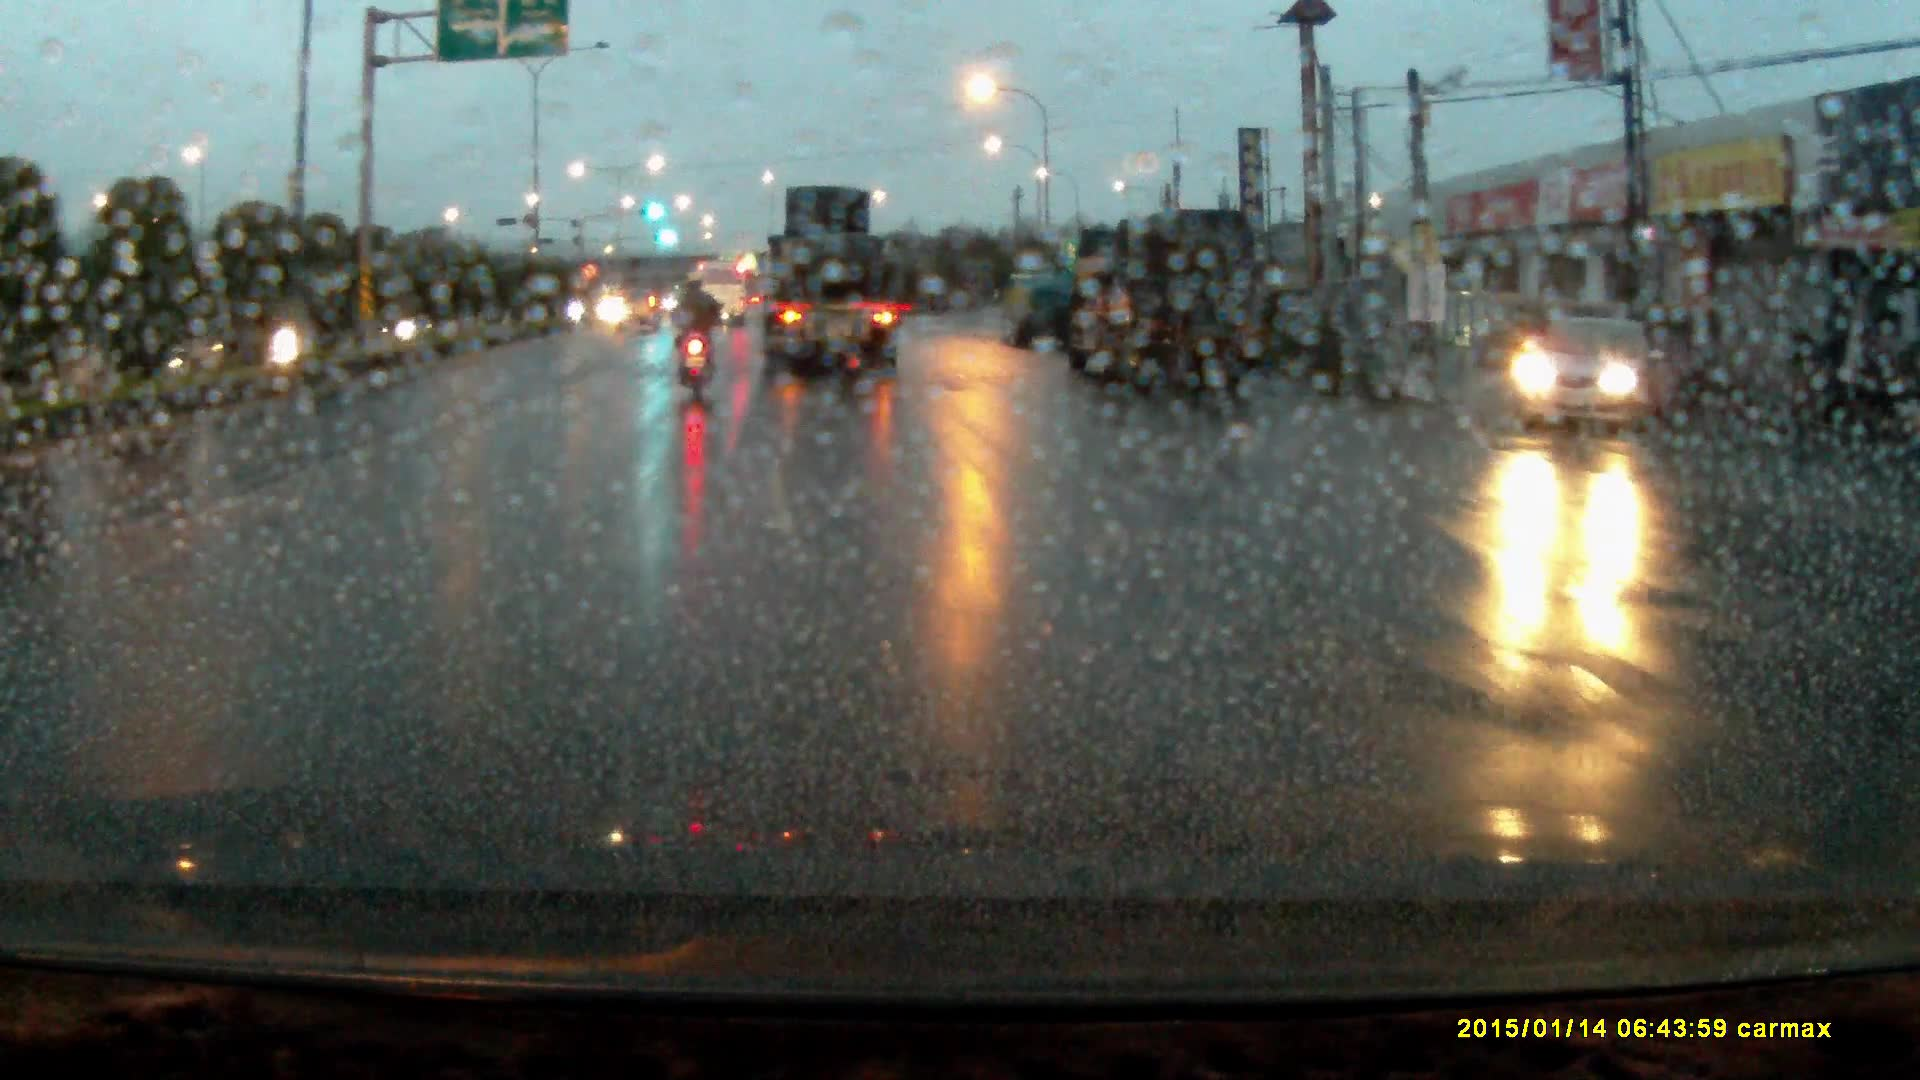rider: (668, 270, 726, 404)
vehicle: (1068, 205, 1268, 404), (762, 191, 901, 383), (1501, 308, 1695, 434), (1002, 272, 1080, 351), (697, 261, 746, 326), (608, 288, 660, 336)
